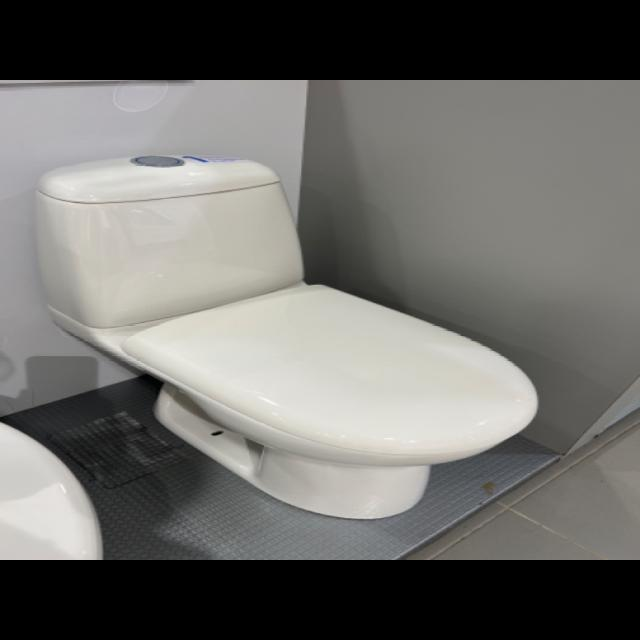toilet: (32, 146, 549, 528)
